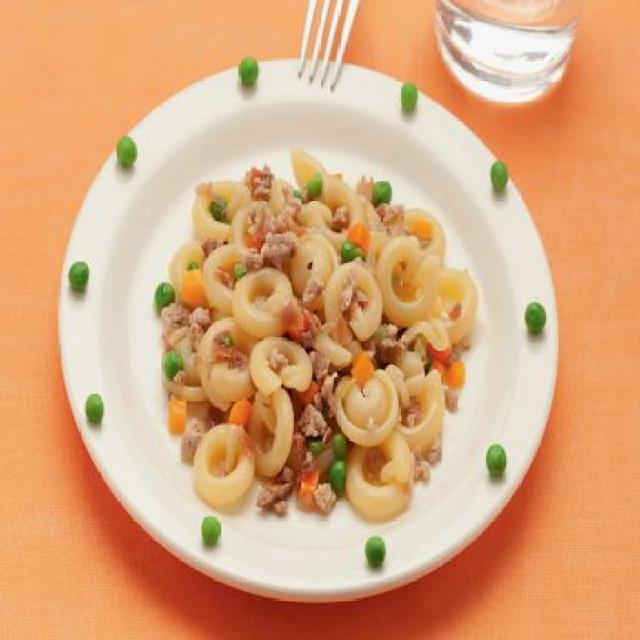Pasta al ragu: (140, 109, 497, 532)
